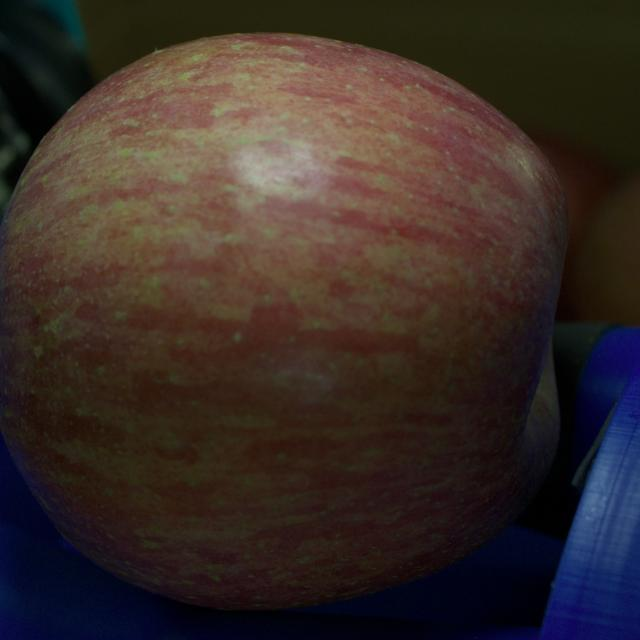apple: (0, 34, 568, 609)
